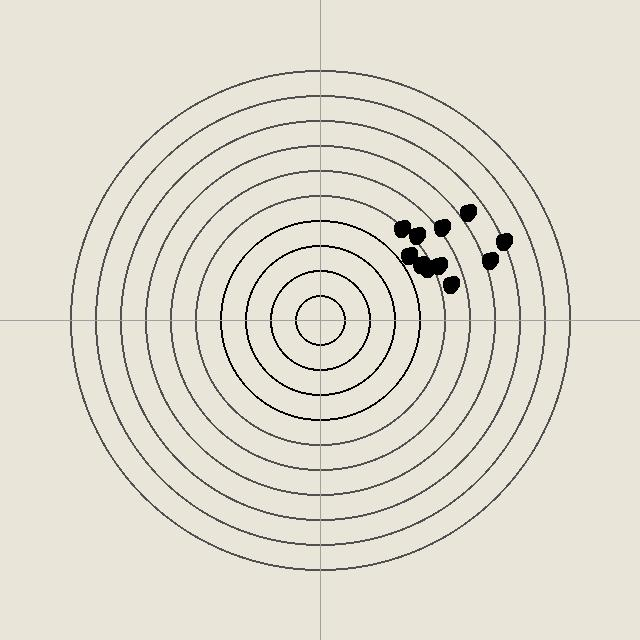good_group: (431, 217, 451, 237), (457, 202, 477, 222), (428, 255, 448, 275), (493, 231, 513, 251), (391, 218, 411, 238), (440, 274, 460, 294), (406, 225, 426, 245), (410, 254, 430, 274), (398, 245, 418, 265), (417, 258, 437, 278), (479, 250, 499, 270)
